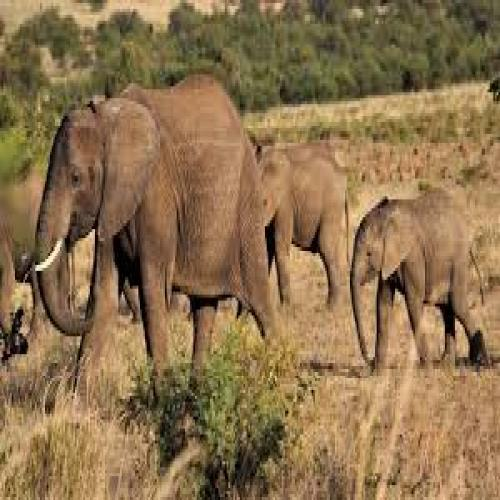asian_elephant-endangered: (23, 84, 278, 406), (351, 192, 490, 369), (255, 141, 352, 309)
